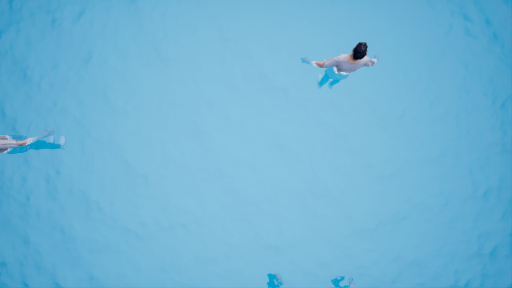person: (294, 37, 388, 94), (1, 122, 70, 162)
